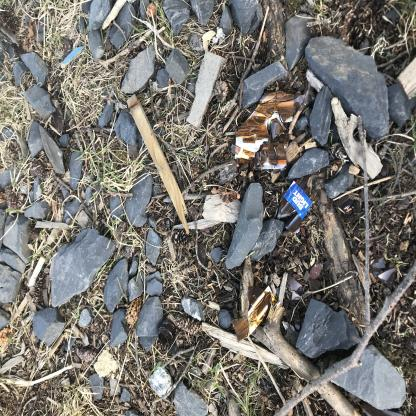trash: (147, 376, 179, 416), (219, 363, 244, 410), (182, 356, 207, 384), (182, 335, 206, 361), (215, 326, 231, 360), (203, 354, 225, 378), (223, 337, 238, 371), (233, 341, 249, 371), (235, 367, 248, 403), (164, 379, 178, 412), (184, 312, 195, 336), (202, 322, 212, 343), (192, 322, 201, 341), (195, 306, 205, 323), (214, 315, 222, 331)
